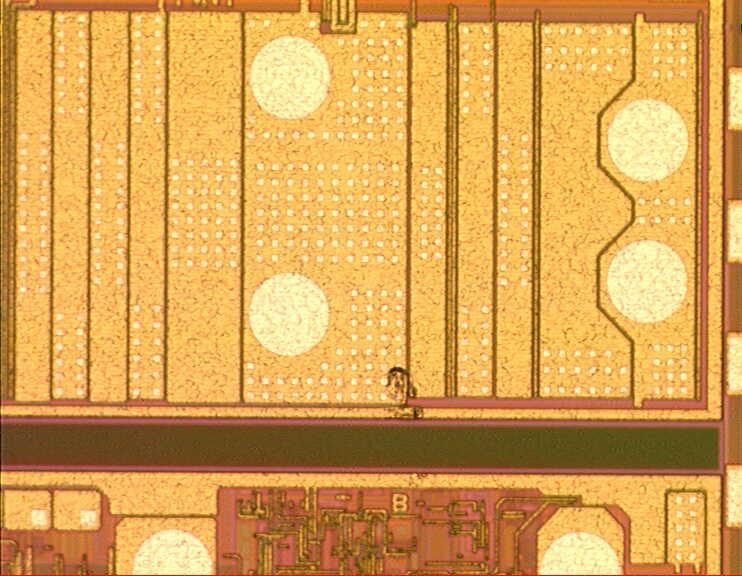SCRATCH: (359, 336, 436, 442)
